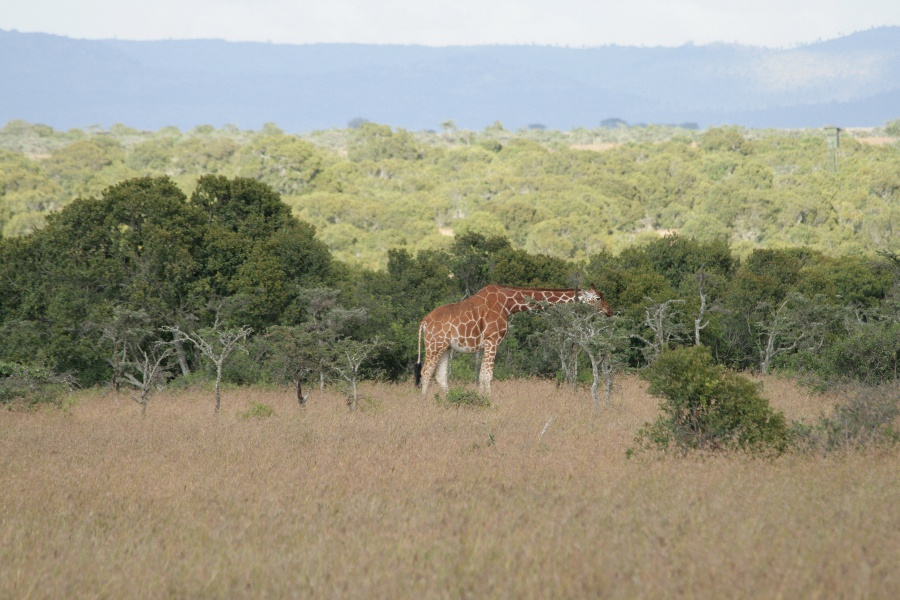giraffe: (406, 278, 624, 403)
